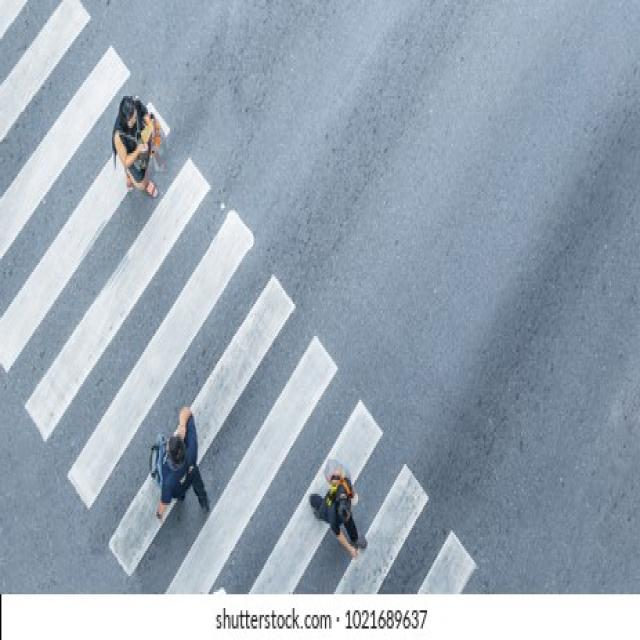Pedestrians: (148, 405, 211, 521), (307, 453, 373, 560), (109, 92, 166, 201)
